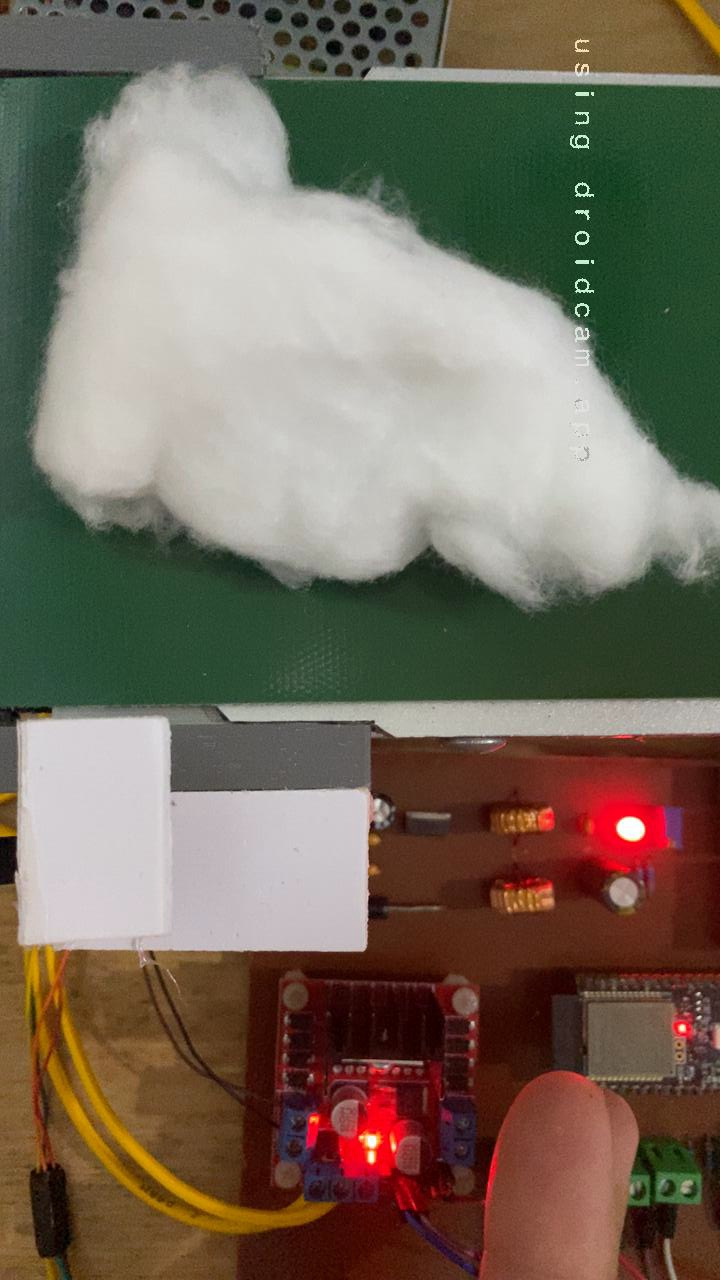cotton: (20, 81, 720, 617)
